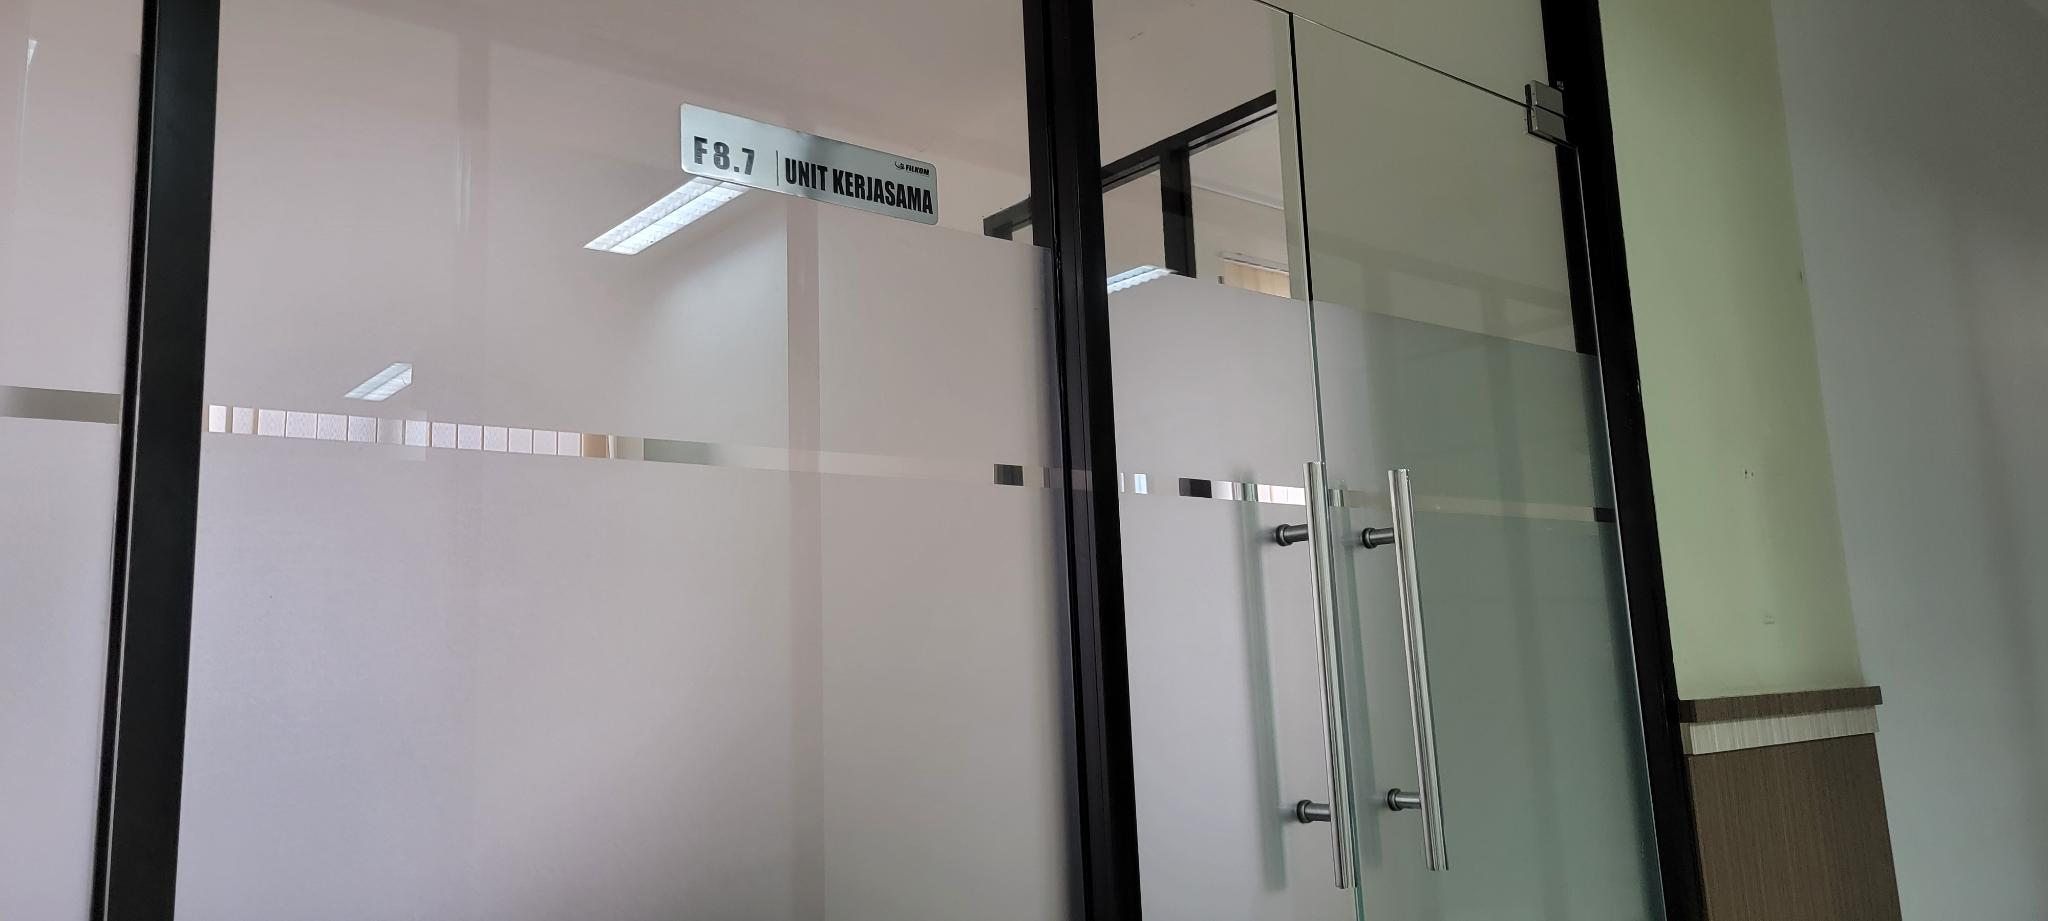plate: (678, 102, 940, 226)
